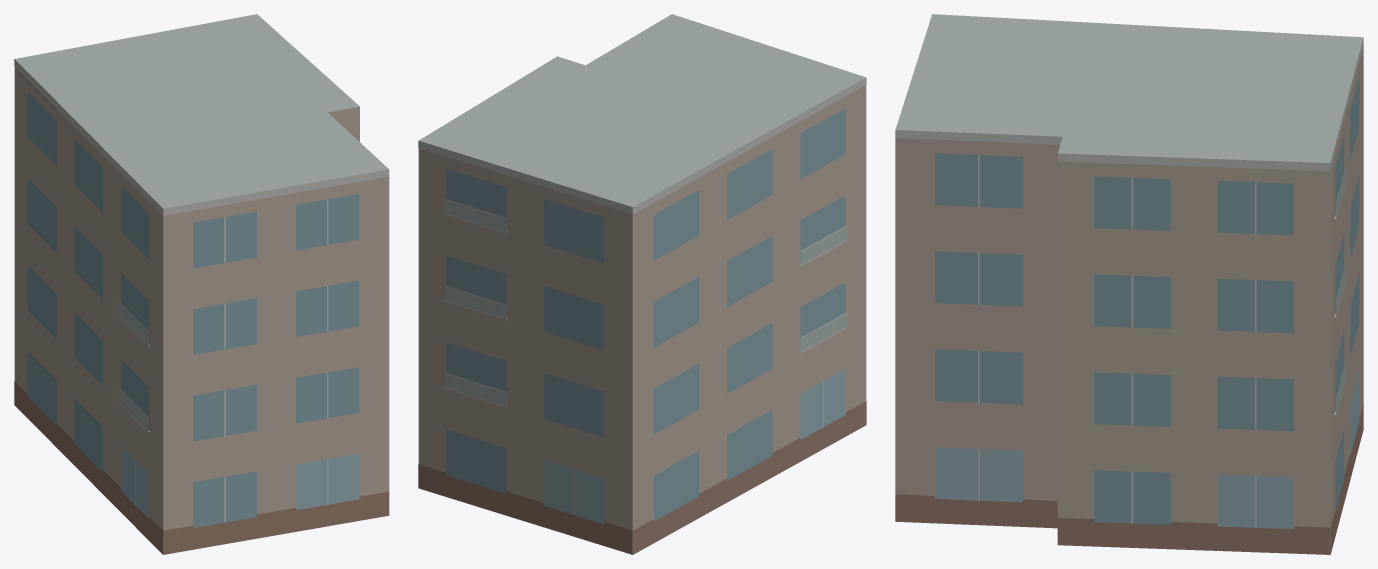
The model's file is survey-upis-32768871.glb.
3 renders of one model, left to right at view 1: azimuth 30°, elevation 25°; view 2: azimuth 150°, elevation 25°; view 3: azimuth 270°, elevation 25°, orthographic. The views are drawn at different scales.
Visible parts, largest first — view 1: survey-upis-32768871.tmp; view 2: survey-upis-32768871.tmp; view 3: survey-upis-32768871.tmp.
Part boxes in pixels (x1,y1,x2,y2): survey-upis-32768871.tmp: (14, 14, 389, 554); survey-upis-32768871.tmp: (418, 14, 866, 554); survey-upis-32768871.tmp: (895, 14, 1363, 554).
Size of the model in its own units: 9.56 by 11.7 by 12.68.
